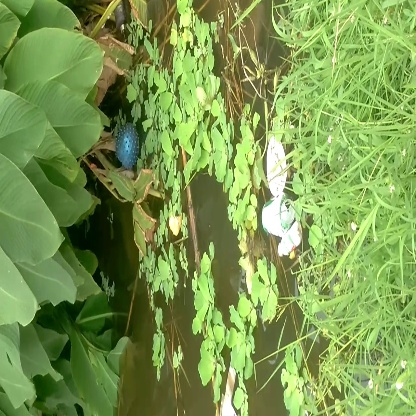ball: (105, 120, 146, 168)
